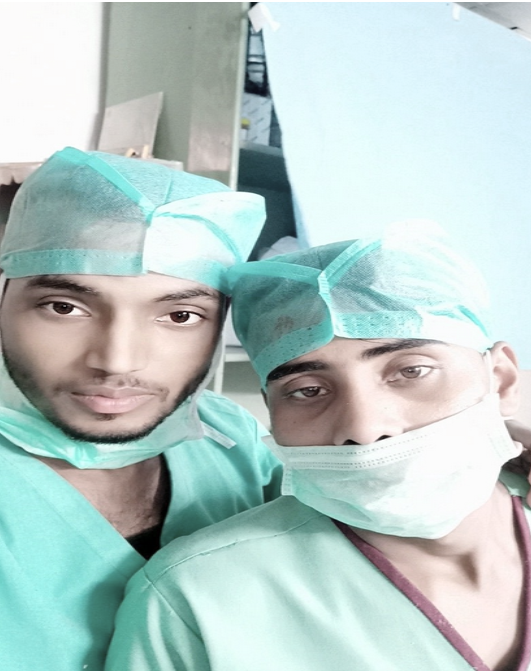mask_weared_incorrect: (228, 216, 509, 543)
